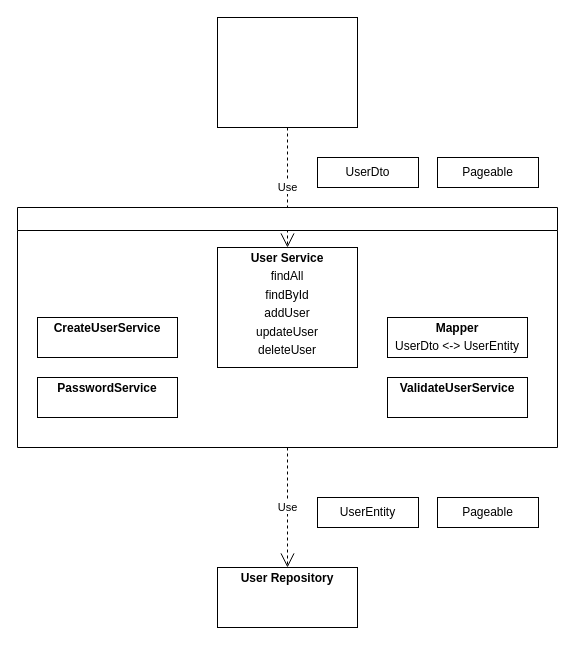
Image size: 575x645. Some labels were removed from this diagram. The shapes that lost their labels are listed below. From the top down, each one's box as (x1, y1, x2, y2) in pixels, then its label:
(216, 16, 358, 128): User Controller getAll getById put post delete
(16, 206, 558, 448): Services
